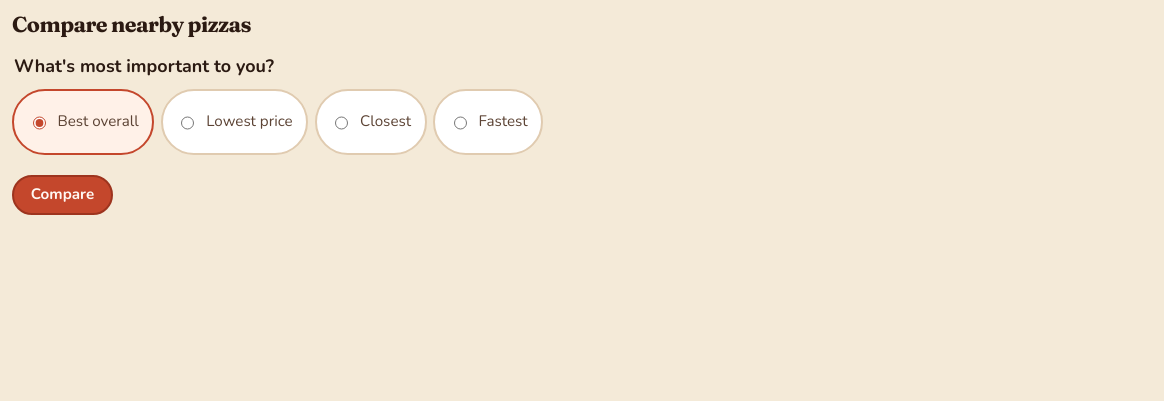
Test: PizzaComparisonPanel › does not treat an incomplete empty ranking as no nearby matches
Click the button "Compare" at coordinates (62, 195), box [12, 175, 113, 214]
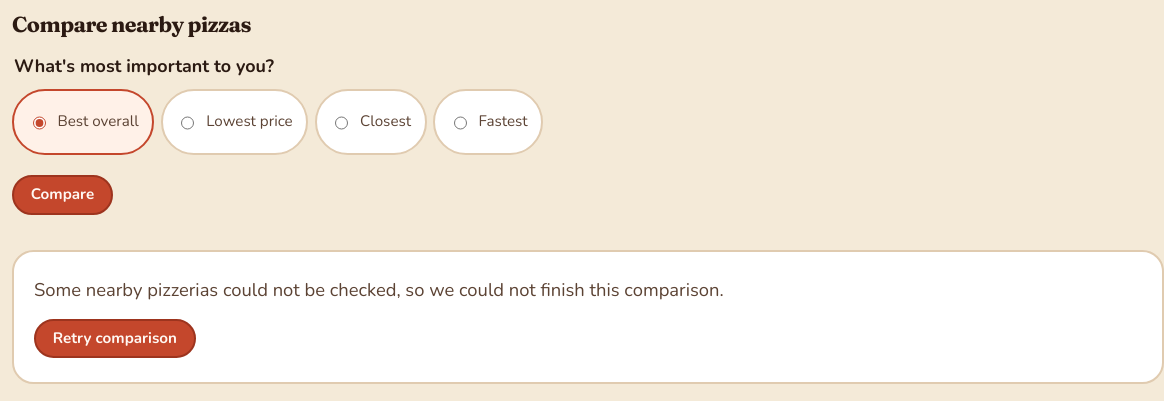
Expected: the text "Some nearby pizzerias could not be checked, so we could not finish this comparison." is shown, [34, 278, 724, 302]
Expected: the button "Retry comparison" is shown, [34, 319, 196, 358]
